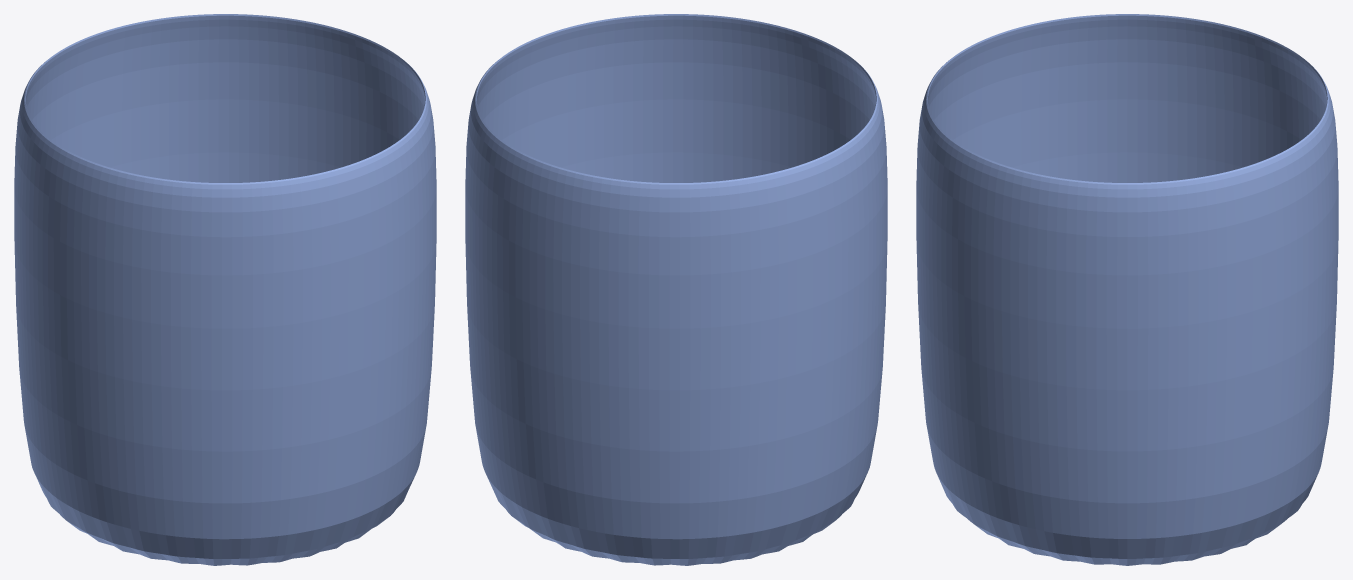
The model's file is Glss.fbx.
3 views of the same model, side by side, from view 1: azimuth 30°, elevation 25°; view 2: azimuth 150°, elevation 25°; view 3: azimuth 270°, elevation 25° (orthographic).
Parts seen in each view (by area): view 1: Circle; view 2: Circle; view 3: Circle.
Boxes of the visible parts, box(x1,y1,x2,y2) form: Circle: box(14, 14, 436, 565); Circle: box(465, 14, 887, 565); Circle: box(916, 14, 1338, 565).
Size of the model in its own units: 250 by 270 by 250.
